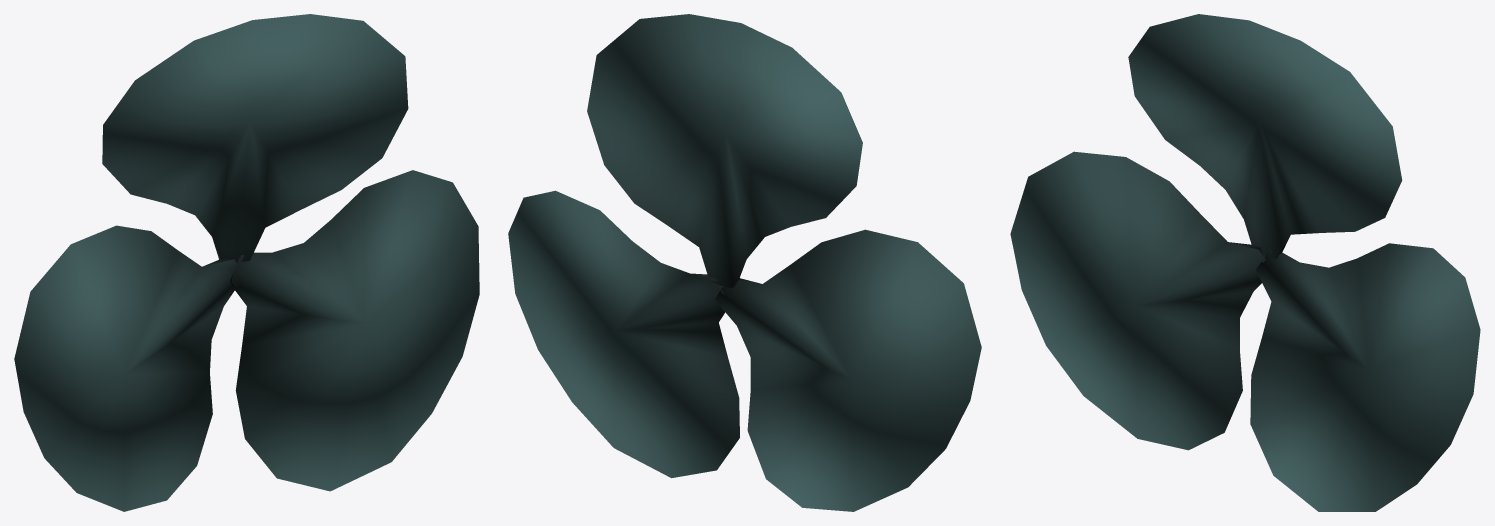
3 views of the same model, side by side, from view 1: azimuth 30°, elevation 25°; view 2: azimuth 150°, elevation 25°; view 3: azimuth 330°, elevation 25° (orthographic). The views are drawn at different scales.
Parts seen in each view (by area): view 1: anim_0_0_200; view 2: anim_0_0_200; view 3: anim_0_0_200.
Part boxes in pixels (bbox=[...]): anim_0_0_200: bbox=[14, 14, 479, 511]; anim_0_0_200: bbox=[508, 14, 981, 511]; anim_0_0_200: bbox=[1010, 14, 1480, 511].
Bounding box in the file's own units: 0.5 × 0.4902 × 0.0467.
